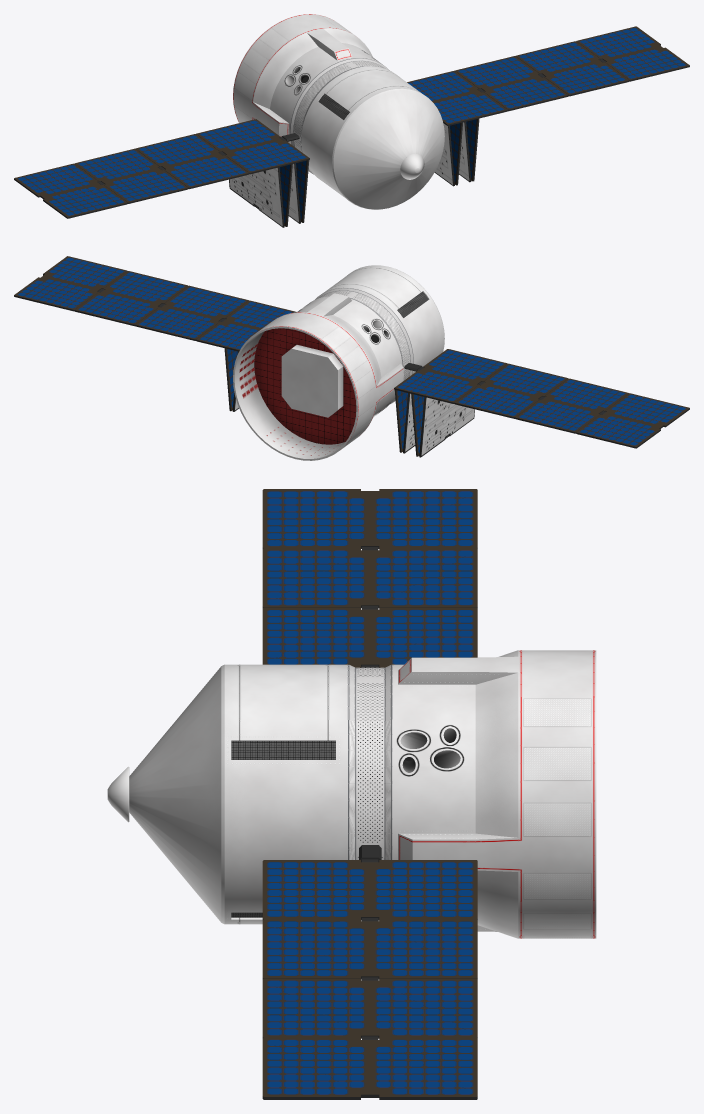
Rendered from Probe.FBX.
The picture shows the model from 3 angles, top to bottom: view 1: azimuth 30°, elevation 25°; view 2: azimuth 150°, elevation 25°; view 3: azimuth 270°, elevation 25°; orthographic projection. The views are drawn at different scales.
Visible parts, largest first — view 1: Probe Body, Probe Right Panel, Probe Left Panel, Probe Right Panel Folded, Probe Left Panel Folded; view 2: Probe Body, Probe Right Panel, Probe Left Panel, Probe Right Panel Folded, Probe Left Panel Folded; view 3: Probe Body, Probe Left Panel, Probe Right Panel.
Part boxes in pixels (left/top/right/bottom): Probe Body: left=233, top=14, right=444, bottom=209; Probe Right Panel: left=14, top=119, right=309, bottom=218; Probe Left Panel: left=407, top=26, right=689, bottom=125; Probe Right Panel Folded: left=229, top=160, right=309, bottom=227; Probe Left Panel Folded: left=434, top=118, right=479, bottom=186; Probe Body: left=233, top=265, right=444, bottom=460; Probe Right Panel: left=394, top=349, right=689, bottom=448; Probe Left Panel: left=14, top=256, right=296, bottom=351; Probe Right Panel Folded: left=394, top=389, right=474, bottom=457; Probe Left Panel Folded: left=224, top=348, right=238, bottom=411; Probe Body: left=107, top=650, right=596, bottom=938; Probe Left Panel: left=262, top=859, right=477, bottom=1099; Probe Right Panel: left=262, top=489, right=477, bottom=667.
Bounding box in the file's own units: 5.61 × 1.13 × 1.91.
